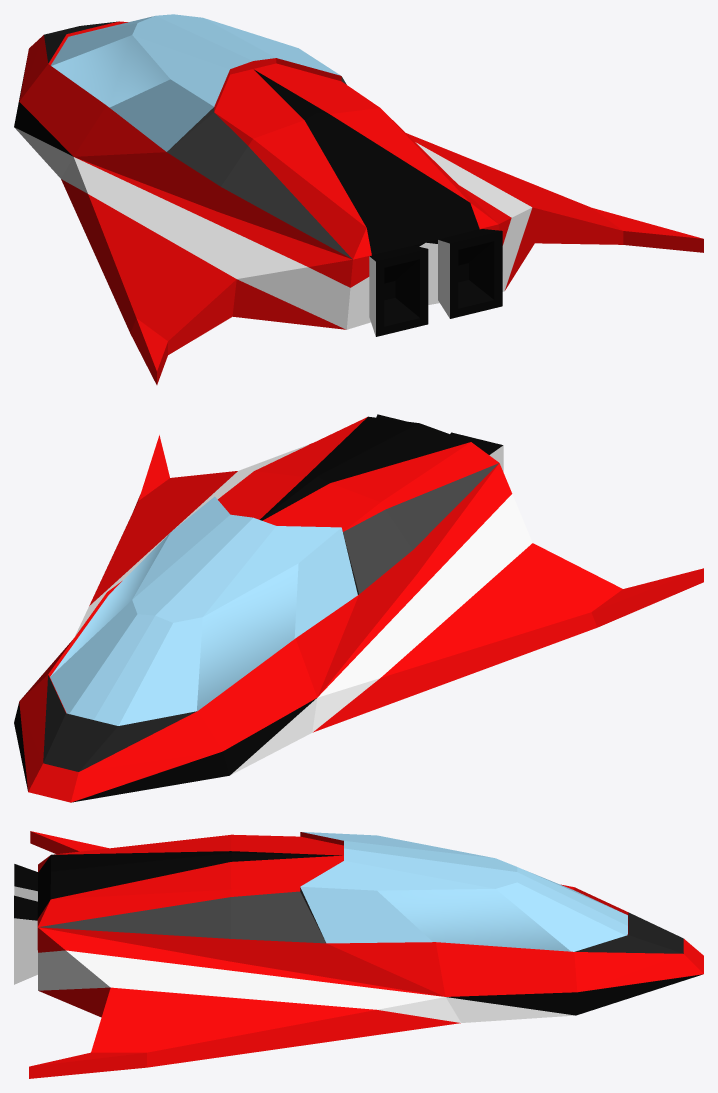
File: SpaceKartColor.fbx
3 views of the same model, one above another, from view 1: azimuth 30°, elevation 25°; view 2: azimuth 150°, elevation 25°; view 3: azimuth 270°, elevation 25° (orthographic). The views are drawn at different scales.
Visible parts, largest first — view 1: Cube; view 2: Cube; view 3: Cube.
Boxes of the visible parts, bbox=[...] form: Cube: bbox=[14, 14, 703, 384]; Cube: bbox=[14, 414, 703, 802]; Cube: bbox=[14, 831, 703, 1078].
Bounding box in the file's own units: 4.15 × 1.02 × 5.14.
